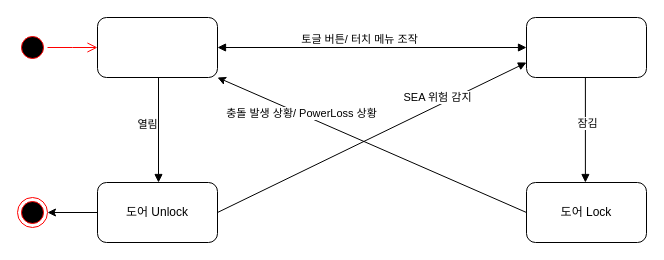
This 664x260 diagram has some shape labels left out. The centre of each missing label's shape, as x and y in pixels:
"전자식 차일드 락 OFF" goes at point (157, 47).
"전자식 차일드 락 ON" goes at point (586, 47).
